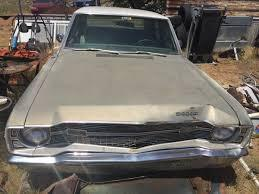bonnet-dent: (109, 58, 236, 130)
